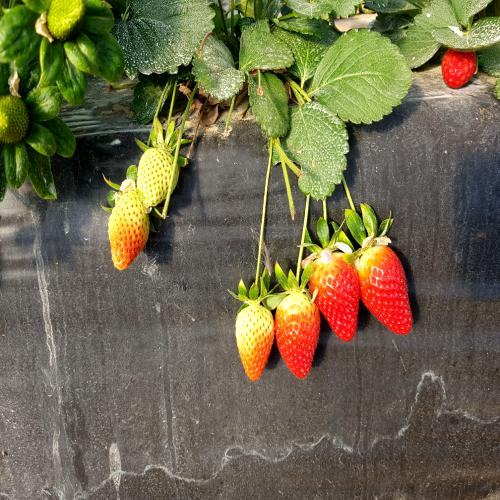ripe: (355, 242, 420, 344), (312, 240, 361, 354), (276, 277, 320, 392)
